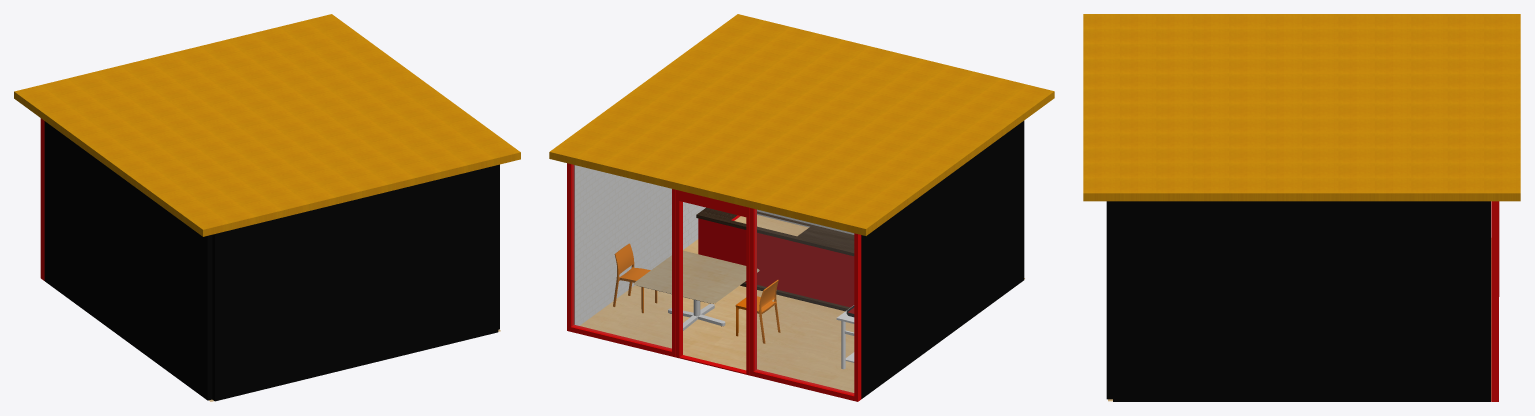
The model's file is SMALL.gltf.
The picture shows the model from 3 angles, left to right: view 1: azimuth 30°, elevation 25°; view 2: azimuth 150°, elevation 25°; view 3: azimuth 270°, elevation 25°; orthographic projection. The views are drawn at different scales.
Parts seen in each view (by area): view 1: node_Ceiling_13008, node_Wall 5 (2)_13112, node_Wall 5 (1)_13034, node_Windows_12946; view 2: node_Ceiling_13008, node_Windows_12946, node_Wall 5 (1)_13034, node_Plane_13012, node_Wall 5_12958, node_Bar_13080, node_Table_12942, node_Chair (4)_12930, node_Chair_12982, node_Metallic table_13066; view 3: node_Ceiling_13008, node_Wall 5_12958, node_Windows_12946, node_Wall 5 (2)_13112.
Boxes of the visible parts, bbox=[...] form: node_Ceiling_13008: bbox=[14, 14, 520, 236]; node_Wall 5 (2)_13112: bbox=[212, 165, 498, 401]; node_Wall 5 (1)_13034: bbox=[44, 121, 212, 400]; node_Windows_12946: bbox=[40, 118, 44, 280]; node_Ceiling_13008: bbox=[549, 14, 1054, 235]; node_Windows_12946: bbox=[567, 163, 861, 401]; node_Wall 5 (1)_13034: bbox=[861, 121, 1024, 398]; node_Plane_13012: bbox=[580, 215, 1024, 392]; node_Wall 5_12958: bbox=[574, 165, 705, 325]; node_Bar_13080: bbox=[696, 207, 854, 311]; node_Table_12942: bbox=[634, 250, 759, 330]; node_Chair (4)_12930: bbox=[613, 243, 657, 313]; node_Chair_12982: bbox=[735, 280, 780, 343]; node_Metallic table_13066: bbox=[836, 305, 854, 369]; node_Ceiling_13008: bbox=[1083, 14, 1520, 201]; node_Wall 5_12958: bbox=[1113, 201, 1490, 401]; node_Windows_12946: bbox=[1491, 201, 1499, 401]; node_Wall 5 (2)_13112: bbox=[1106, 201, 1112, 399].
Bounding box in the file's own units: 5.47 × 3.04 × 5.63.
16 materials, 9 textured.
